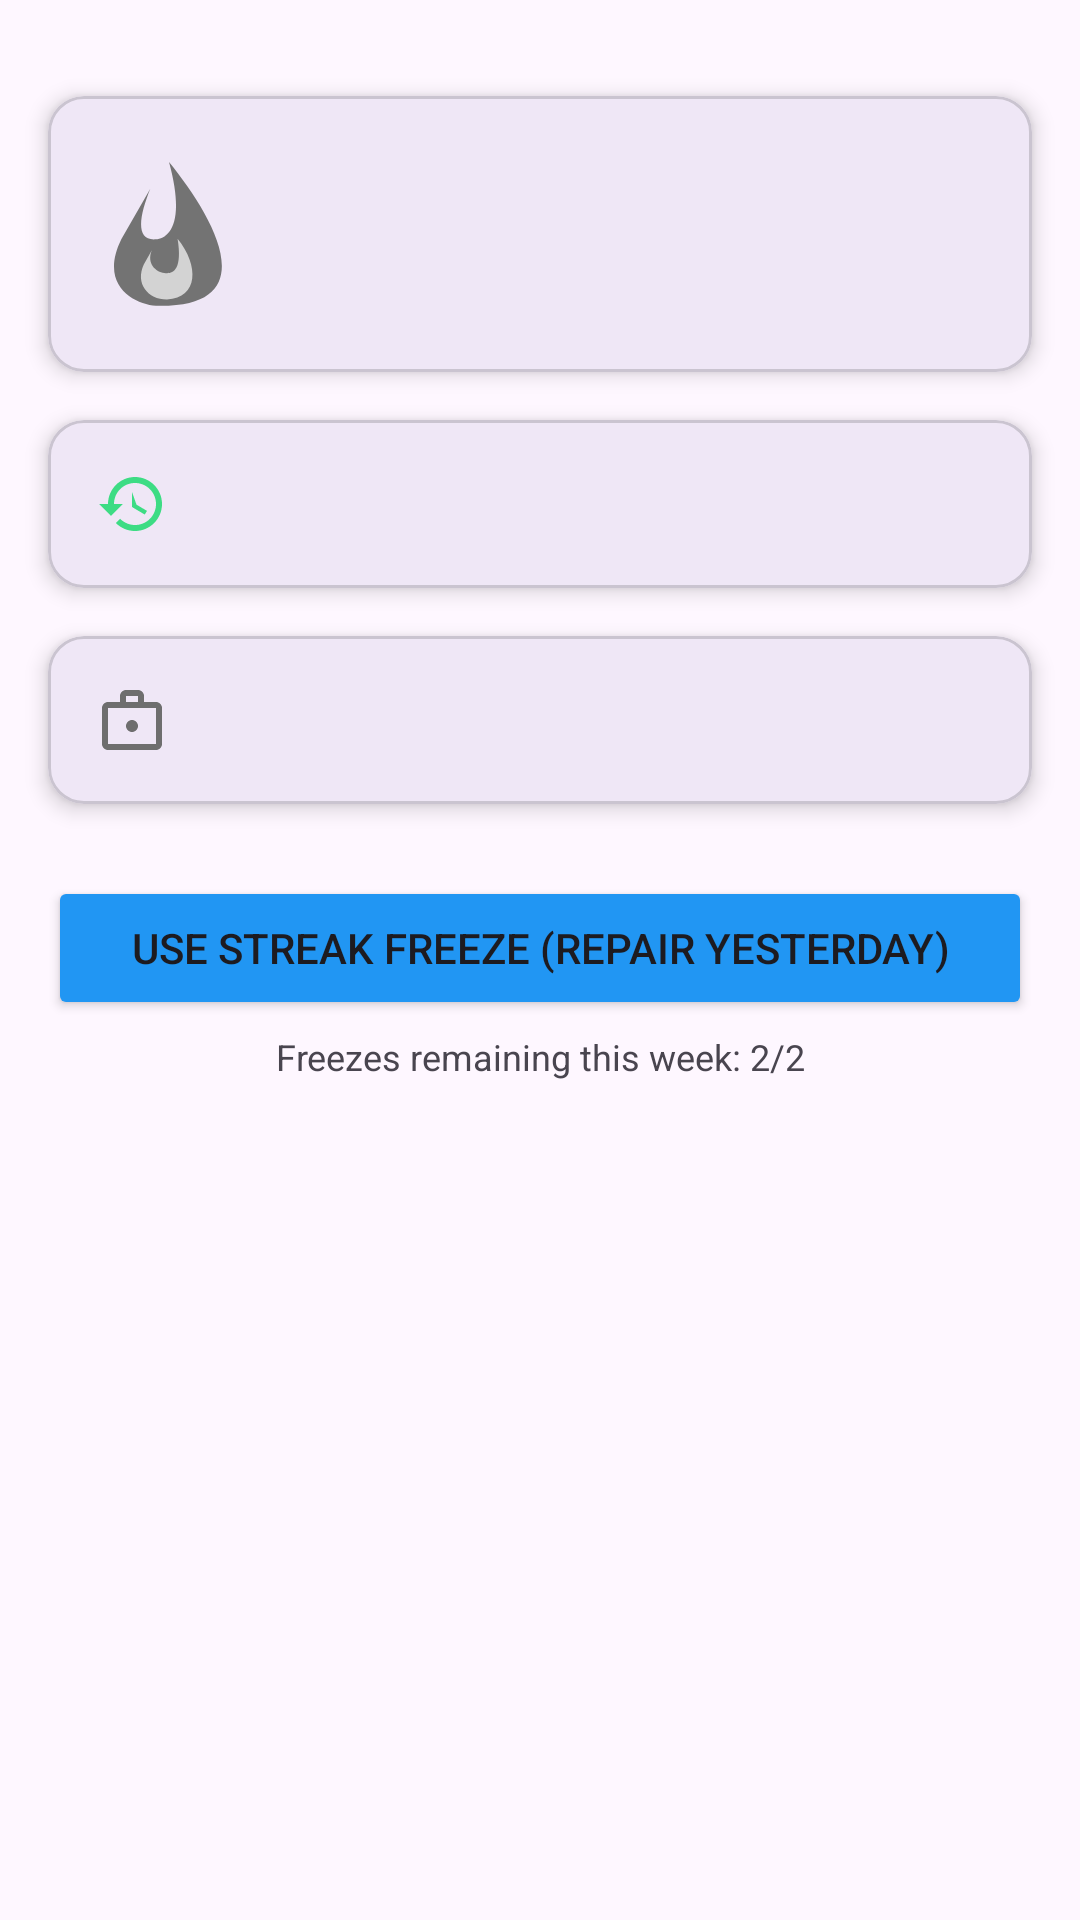

Locate icon controls on the screen. Image size 1080x1920, boxes as (x1, y1, x2, y2).
history: (99, 477, 162, 531)
